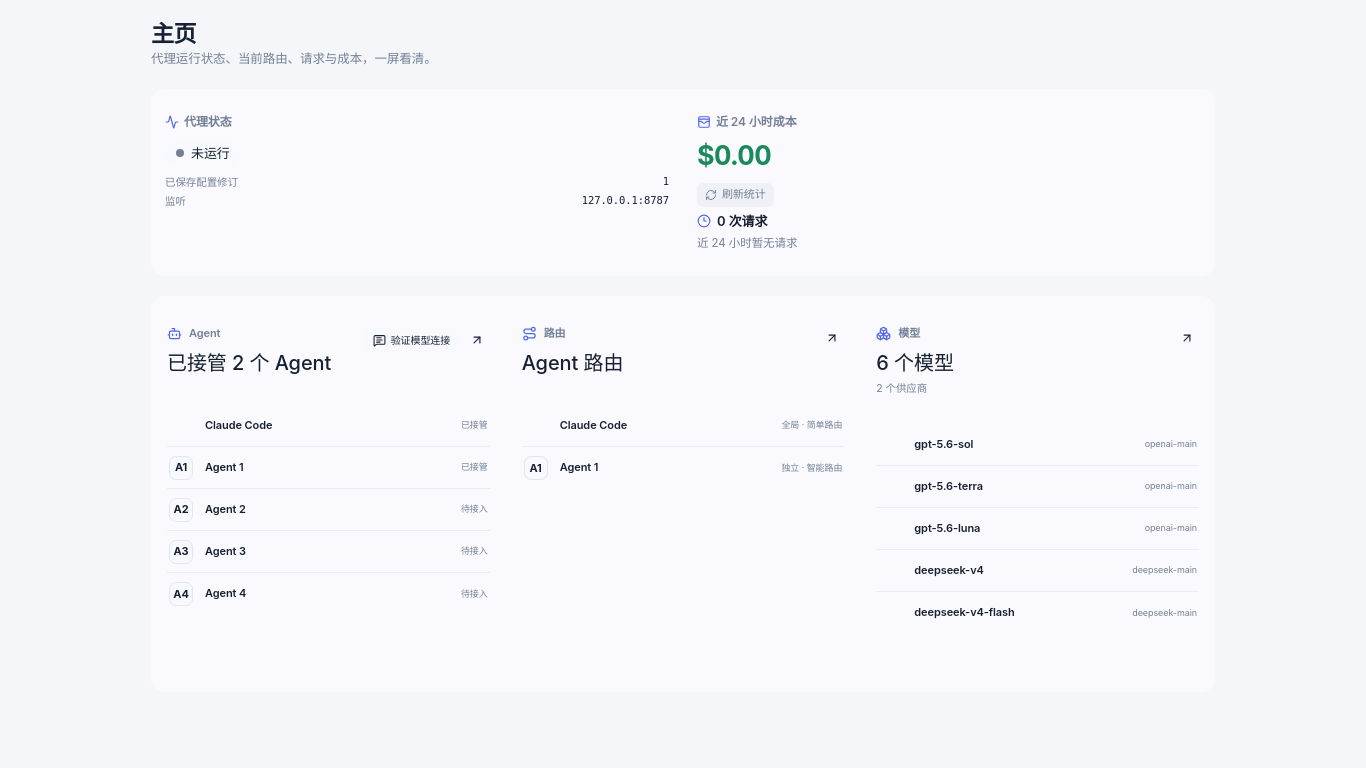
Scenario: OverviewPage summaries › opens the model test console from one clear Overview action
Expected: the element with class "overview-agent-actions" is shown, [364,326,490,354]
Click the button "验证模型连接" at (411, 340), box [364,326,459,354]
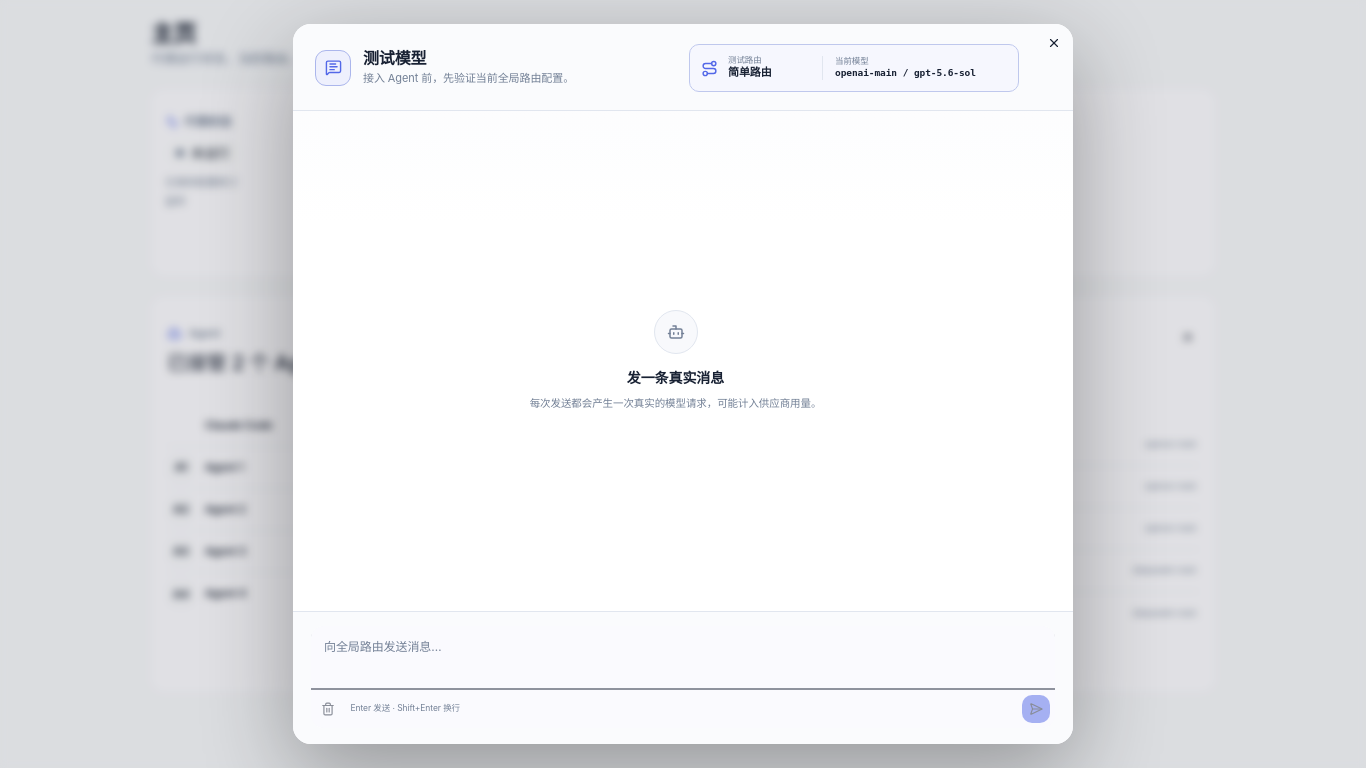
Result: the dialog "测试模型" is shown at [293,24,1073,744]
Result: the text "测试路由" is shown at [728,55,762,65]
Result: the text "当前模型" is shown at [835,56,869,66]
